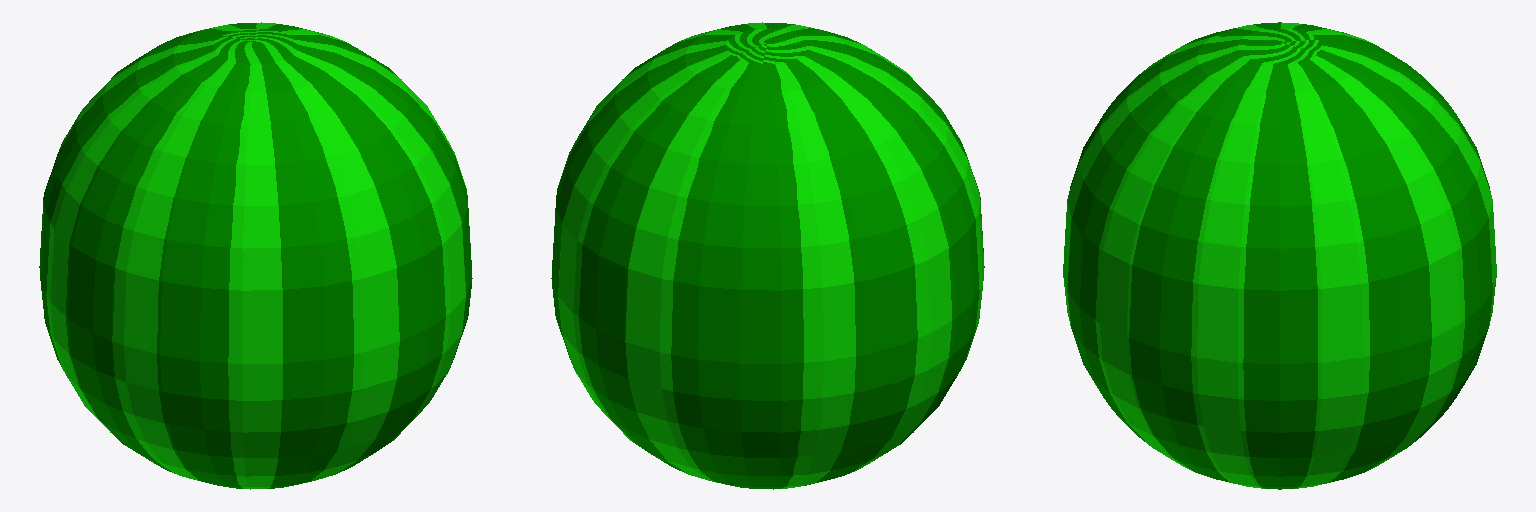
3 renders of one model, left to right at view 1: azimuth 30°, elevation 25°; view 2: azimuth 150°, elevation 25°; view 3: azimuth 270°, elevation 25°, orthographic.
Parts seen in each view (by area): view 1: Sphere; view 2: Sphere; view 3: Sphere.
Boxes of the visible parts, <box> form: Sphere: <box>39,22,472,489</box>; Sphere: <box>551,22,984,489</box>; Sphere: <box>1063,22,1496,489</box>.
Bounding box in the file's own units: 2 × 2.17 × 2.
Materials: 1 (1 with a texture image).